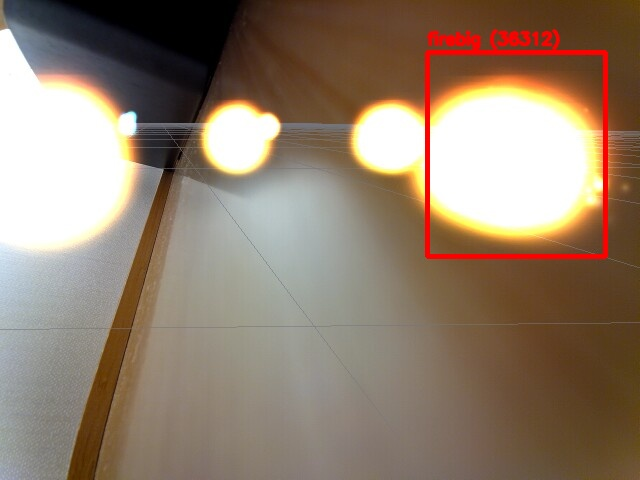firebig: (427, 52, 605, 256)
